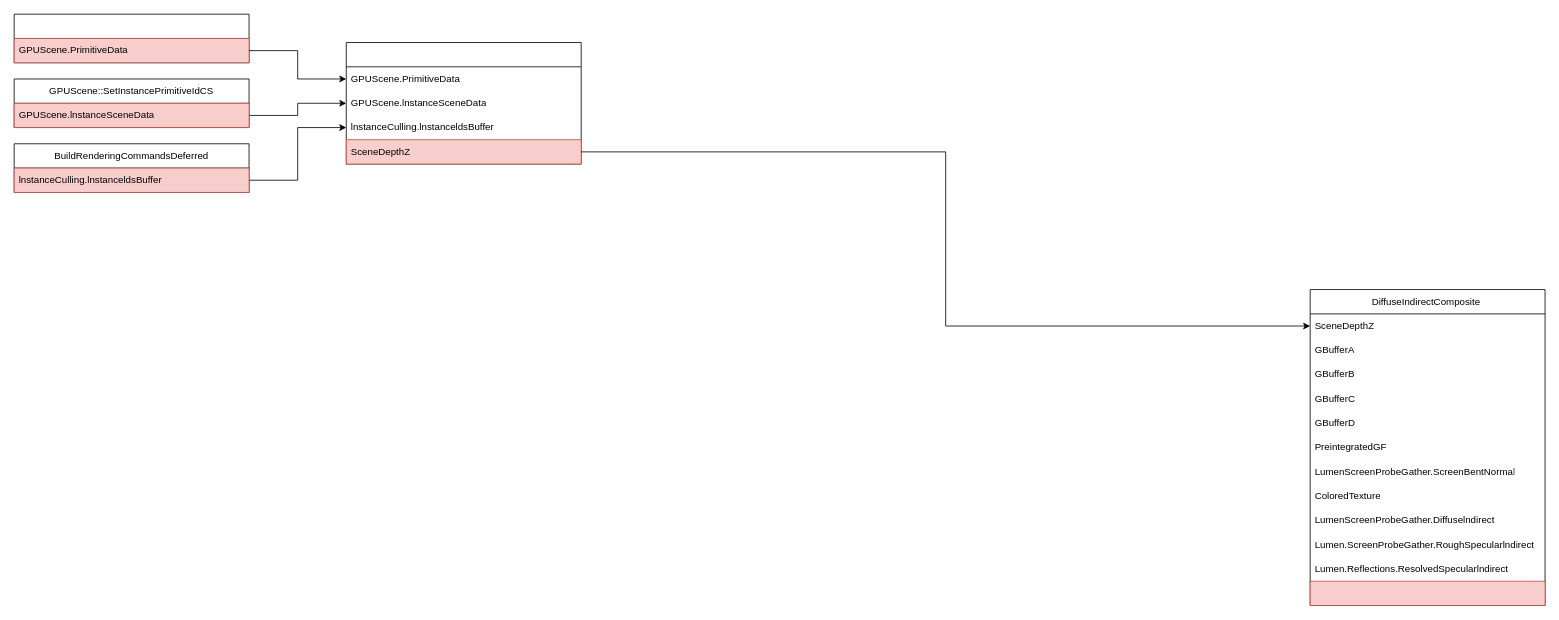
The diagram is 1559 pixels wide and 620 high, and some of its shapes have lost their labels. Here are the shapes that lost their labels. From the top down, the box of each, then its label:
(13, 13, 249, 63): UpdateGPUScene
(345, 42, 581, 164): PrePass DDM_AllOpaque
(1309, 580, 1545, 605): SceneColor
